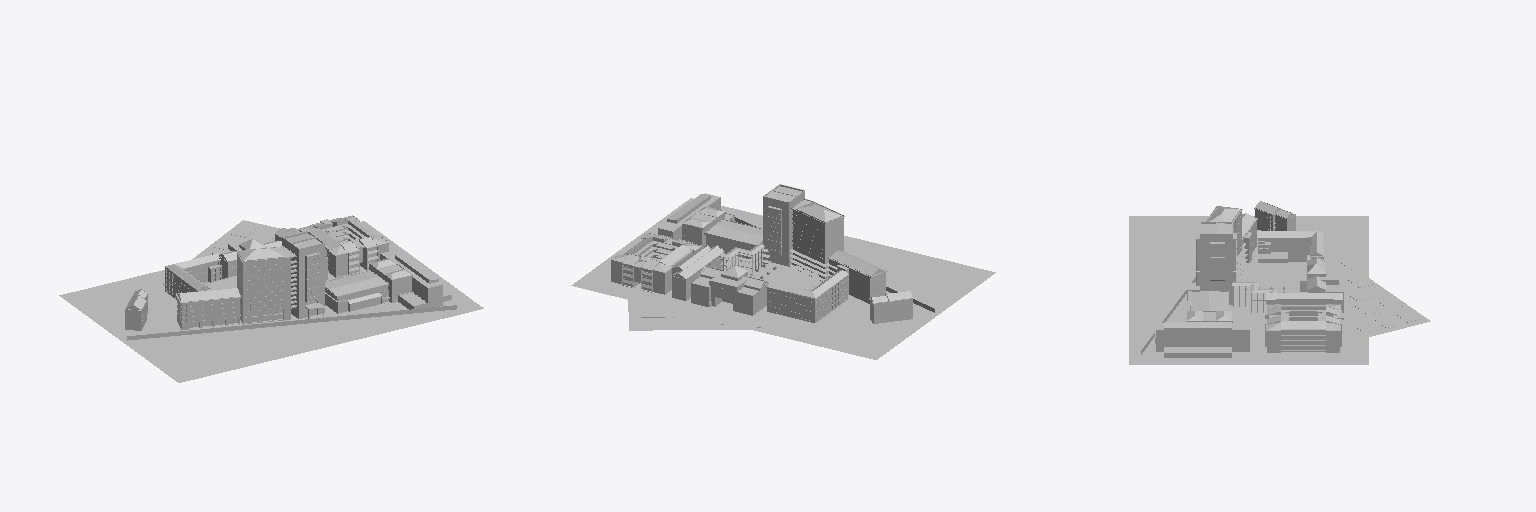
Rendered from chkl.obj.
The picture shows the model from 3 angles: view 1: azimuth 30°, elevation 25°; view 2: azimuth 150°, elevation 25°; view 3: azimuth 270°, elevation 25°; orthographic projection.
Parts seen in each view (by area): view 1: Land, Part_B, Part_B1, Outside_H_1, Outside_B2, Part_F, Part_A, Gate, Outside_C, Outside_E_1, Outside_G, Loft; view 2: Land, Part_B, Outside_C, Part_A, Part_B1, Outside_H_1, Loft, Outside_B2, Outiside_D, Part_F, Outside_G, Center_Land (+3 smaller); view 3: Land, Outside_H_1, Part_B1, Loft, Part_A, Center_Land, Cube_1_4, Outside_C, Outside_E_1, Part_B, Outiside_D, Outside_G (+3 smaller).
Part boxes in pixels (x1,y1,x2,y2): Land: (59, 221, 483, 382); Part_B: (236, 246, 296, 323); Part_B1: (282, 231, 324, 318); Outside_H_1: (369, 250, 451, 307); Outside_B2: (175, 288, 241, 329); Part_F: (325, 270, 389, 313); Part_A: (165, 253, 221, 299); Gate: (127, 305, 456, 340); Outside_C: (212, 236, 281, 278); Outside_E_1: (299, 215, 389, 277); Outside_G: (125, 289, 147, 330); Loft: (192, 220, 279, 259); Land: (571, 198, 995, 359); Part_B: (789, 199, 844, 281); Outside_C: (691, 265, 767, 315); Part_A: (766, 269, 848, 322); Part_B1: (763, 184, 804, 266); Outside_H_1: (655, 193, 725, 246); Loft: (627, 290, 769, 330); Outside_B2: (828, 250, 887, 303); Outiside_D: (672, 245, 724, 300); Part_F: (704, 219, 762, 258); Outside_G: (869, 291, 912, 323); Center_Land: (750, 262, 821, 290); Land: (1129, 216, 1368, 364); Outside_H_1: (1156, 311, 1249, 357); Part_B1: (1187, 222, 1236, 304); Loft: (1331, 253, 1430, 341); Part_A: (1257, 231, 1323, 262); Center_Land: (1237, 263, 1299, 295); Cube_1_4: (1281, 305, 1325, 351); Outside_C: (1300, 257, 1343, 312); Outside_E_1: (1266, 304, 1340, 352); Part_B: (1205, 206, 1247, 278); Outiside_D: (1266, 293, 1342, 309); Outside_G: (1254, 201, 1295, 230).
Bounding box in the file's own units: 4320 × 963 × 3704.